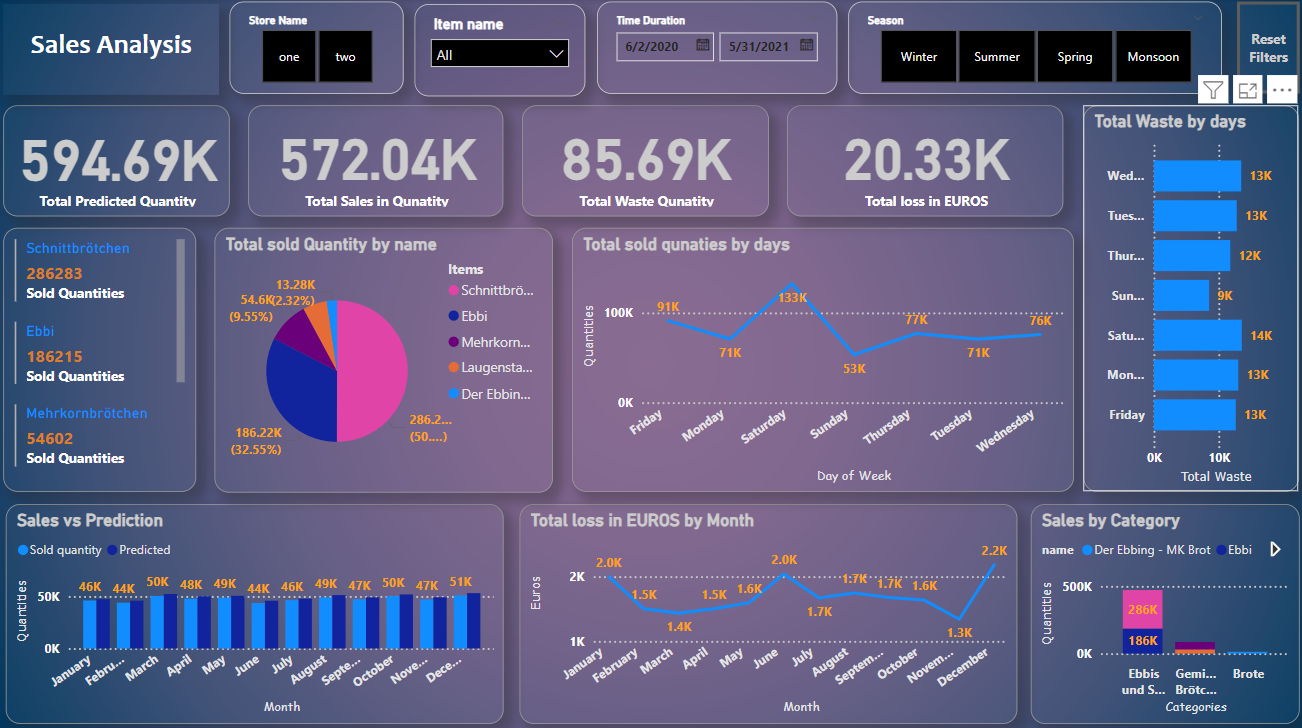

What the dashboard file says about the page in this screenshot:
{"tool":"powerbi","page":{"name":"Page 1","canvas":[1280,720],"ordinal":0},"visuals":[{"type":"slicer","fields":{"Values":["data.name"]},"box":[408.9,4.3,167.1,90],"z":1000},{"type":"slicer","fields":{"Values":["data.store_name"]},"box":[228,2.9,170,90],"z":2000},{"type":"card","fields":{"Values":["Sum(data.prediction)"]},"box":[5.7,103.8,221.4,108.6],"z":3000},{"type":"lineChart","title":"Total loss in EUROS by Month","fields":{"Category":["data.date.Variation.Date Hierarchy.Month"],"Y":["Sum(data.loss in EUROS)"]},"box":[511.4,494.3,487.1,215],"z":4000},{"type":"card","fields":{"Values":["Sum(data.loss in EUROS)"]},"box":[773.5,103.8,270.4,108.5],"z":5000},{"type":"card","fields":{"Values":["Sum(data.waste)"]},"box":[513.7,103.8,241.2,108.5],"z":6000},{"type":"clusteredColumnChart","title":"Sales vs Prediction","fields":{"Category":["data.date.Variation.Date Hierarchy.Month"],"Y":["Sum(data.sales_qntty)","Sum(data.prediction)"]},"box":[8.6,494.2,486.9,215],"z":7000},{"type":"slicer","fields":{"Values":["data.date"]},"box":[587,2.5,235,90],"z":8000},{"type":"pieChart","fields":{"Category":["data.name"],"Y":["Sum(data.sales_qntty)"]},"box":[212.9,224.3,331.4,259],"z":9000},{"type":"multiRowCard","fields":{"Values":["data.name","Sum(data.sales_qntty)"]},"box":[5.7,224.2,188.6,258.6],"z":10000},{"type":"columnChart","title":"Sales by Category","fields":{"Category":["data.category"],"Series":["data.name"],"Y":["Sum(data.sales_qntty)"]},"box":[1011.4,494.3,262.9,215],"z":11000},{"type":"textbox","box":[5.7,4.3,211.4,88.6],"z":12000},{"type":"card","fields":{"Values":["Sum(data.sales_qntty)"]},"box":[245.8,103.8,249.3,108.5],"z":13000},{"type":"actionButton","box":[1212.9,2.9,61.4,90],"z":14000},{"type":"slicer","fields":{"Values":["data.Season"]},"box":[832.9,2.9,365.7,90],"z":15000},{"type":"lineChart","title":"Total sold qunaties by days","fields":{"Category":["data.Day_of_Week"],"Y":["Sum(data.sales_qntty)"]},"box":[562.5,223.8,491.2,258.8],"z":16000},{"type":"barChart","fields":{"Category":["data.Day_of_Week"],"Y":["Sum(data.waste)"]},"box":[1062.5,103.8,211.2,378.8],"z":17000}]}

Visuals, with their boxes in screenshot pixels (x1, y1, x2, y2), scaled from the page's 1280x720 canvas onto the 1302x728 screenshot:
slicer - data.name: l=416, t=4, r=586, b=95
slicer - data.store_name: l=232, t=3, r=405, b=94
card - Sum(data.prediction): l=6, t=105, r=231, b=215
"Total loss in EUROS by Month" lineChart: l=520, t=500, r=1016, b=717
card - Sum(data.loss in EUROS): l=787, t=105, r=1062, b=215
card - Sum(data.waste): l=523, t=105, r=768, b=215
"Sales vs Prediction" clusteredColumnChart: l=9, t=500, r=504, b=717
slicer - data.date: l=597, t=3, r=836, b=94
pieChart - data.name x Sum(data.sales_qntty): l=217, t=227, r=554, b=489
multiRowCard - data.name x Sum(data.sales_qntty): l=6, t=227, r=198, b=488
"Sales by Category" columnChart: l=1029, t=500, r=1296, b=717
textbox: l=6, t=4, r=221, b=94
card - Sum(data.sales_qntty): l=250, t=105, r=504, b=215
actionButton: l=1234, t=3, r=1296, b=94
slicer - data.Season: l=847, t=3, r=1219, b=94
"Total sold qunaties by days" lineChart: l=572, t=226, r=1072, b=488
barChart - data.Day_of_Week x Sum(data.waste): l=1081, t=105, r=1296, b=488
